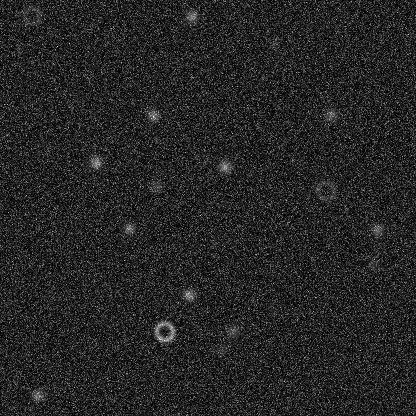Ring: (152, 319, 176, 343), (19, 3, 43, 27), (313, 178, 337, 202)
Spot: (265, 35, 281, 51), (224, 322, 240, 338), (216, 158, 232, 174), (263, 304, 279, 320), (212, 341, 228, 357), (148, 178, 164, 194), (183, 8, 199, 24), (369, 221, 385, 237), (120, 220, 136, 236), (28, 387, 44, 403), (365, 256, 381, 272), (197, 151, 213, 167), (180, 287, 196, 303), (87, 154, 103, 170), (322, 106, 338, 122), (145, 107, 161, 123)
